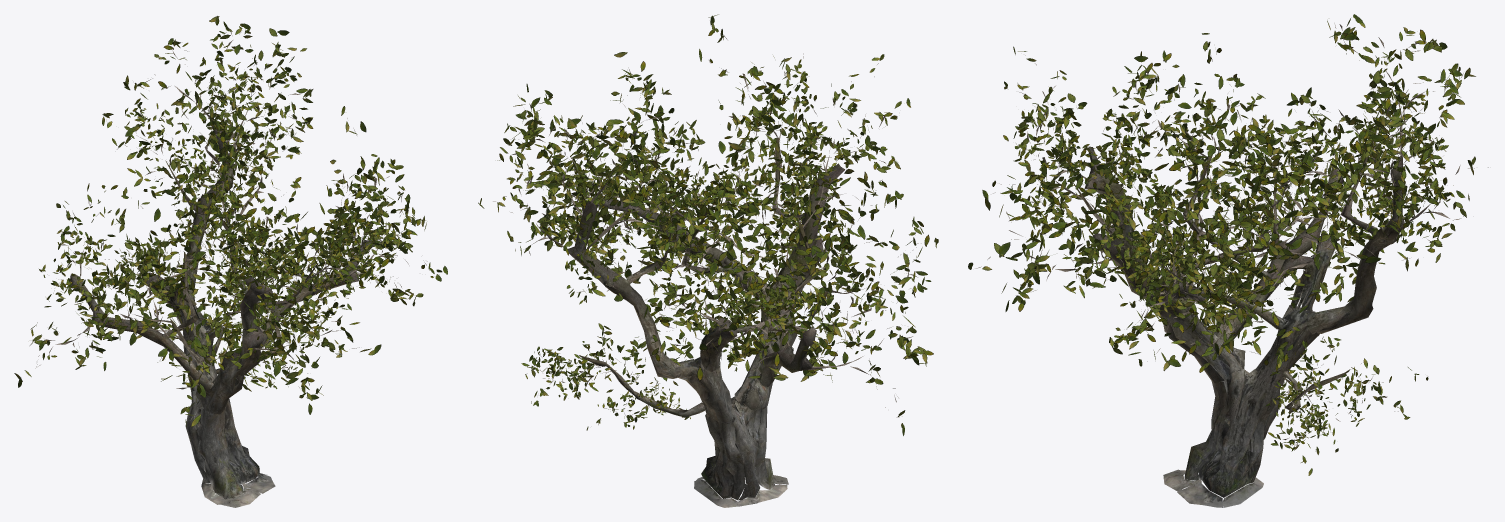
The model's file is island_tree_01.glb.
The picture shows the model from 3 angles, left to right: view 1: azimuth 30°, elevation 25°; view 2: azimuth 150°, elevation 25°; view 3: azimuth 270°, elevation 25°; orthographic projection. The views are drawn at different scales.
Parts seen in each view (by area): view 1: island_tree_01_LOD0; view 2: island_tree_01_LOD0; view 3: island_tree_01_LOD0.
Part boxes in pixels (bbox=[...]): island_tree_01_LOD0: bbox=[14, 16, 447, 507]; island_tree_01_LOD0: bbox=[478, 14, 938, 507]; island_tree_01_LOD0: bbox=[968, 14, 1488, 507].
Size of the model in its own units: 4.77 by 4.94 by 4.65.
3 materials, 3 textured.
